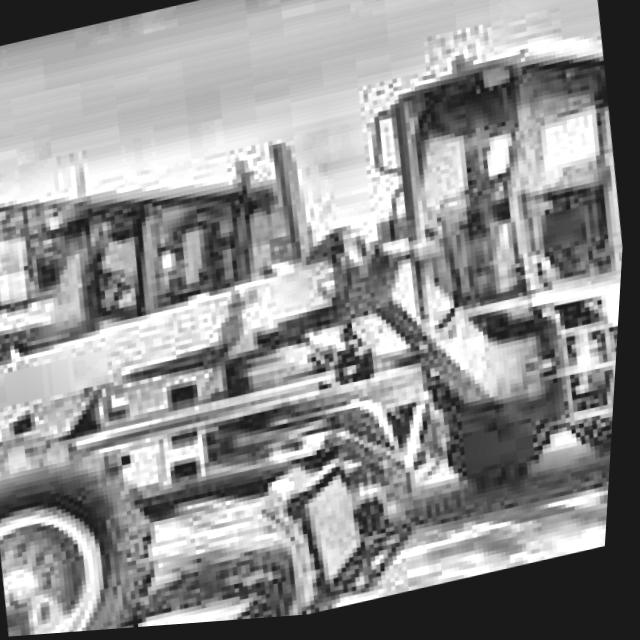buldozerpayloadergrader: (0, 30, 637, 640)
